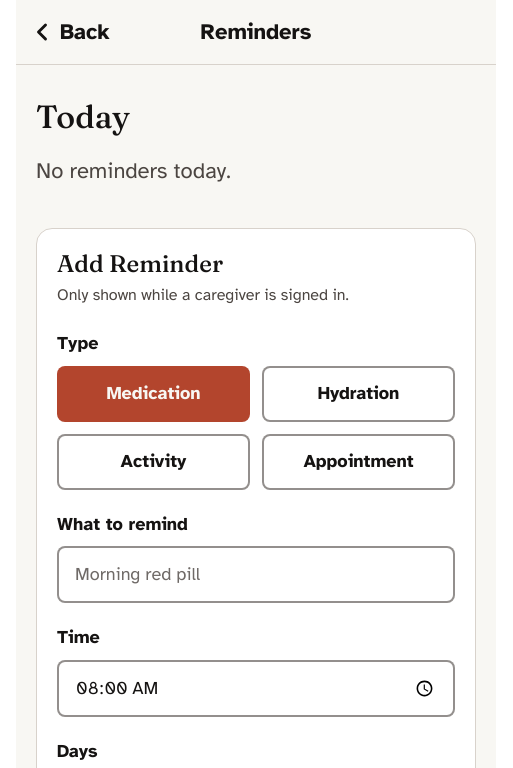
Test: Caregiver reminder form — appointment › shows appointment fields only for the appointment type, and no weekday picker
This screenshot has width=513, height=768.
expect the field labelled "Facility or doctor" is not shown: met
Step 1. Click the button "Appointment" → (358, 462), box x1=262 y1=434 x2=455 y2=490
(page scrolled)
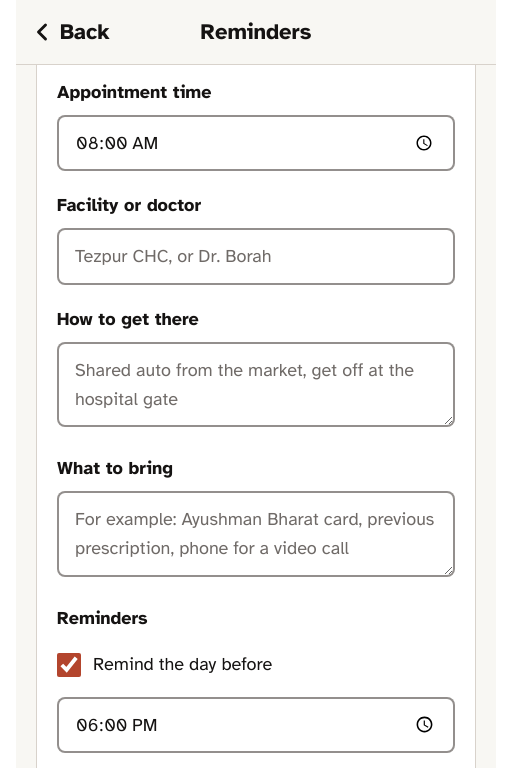
expect the field labelled "Facility or doctor" is shown: met, box x1=57 y1=228 x2=455 y2=285
expect the text box labelled "How to get there" is shown: met, box x1=57 y1=342 x2=455 y2=427
expect the text "Days" is gone: met
